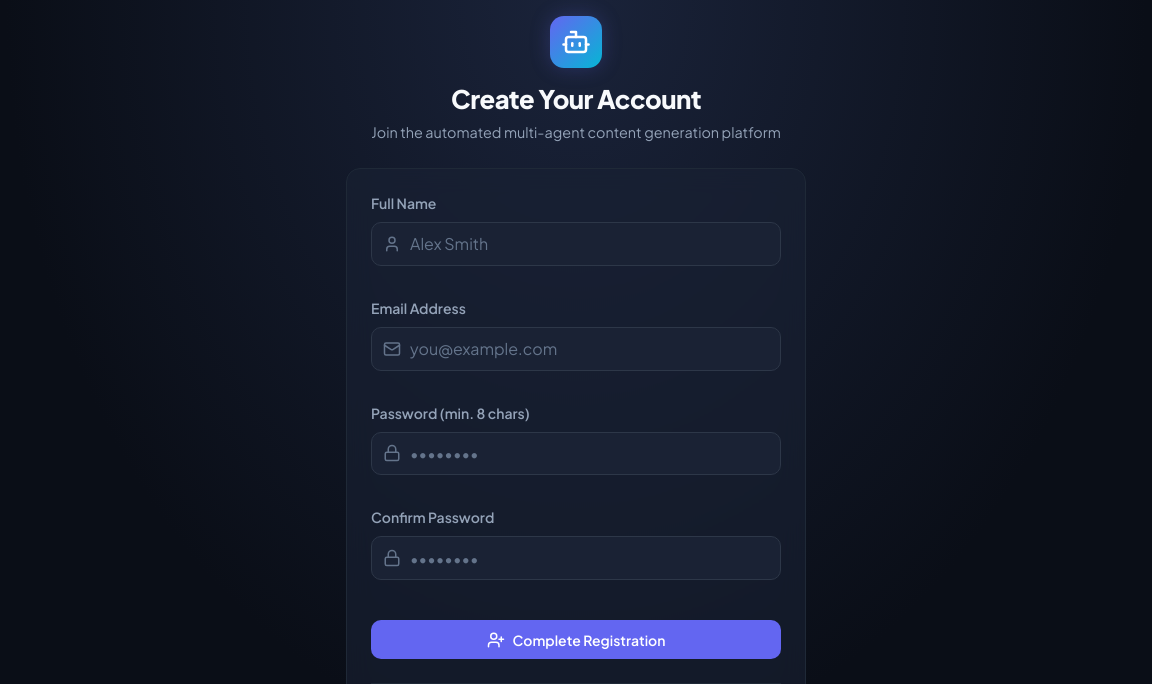
Test: Authentication Flows › renders Register page and checks password mismatch validation
Type "alex@example.com" into the field labelled "Email Address" at [576, 349], box [371,327,781,371]
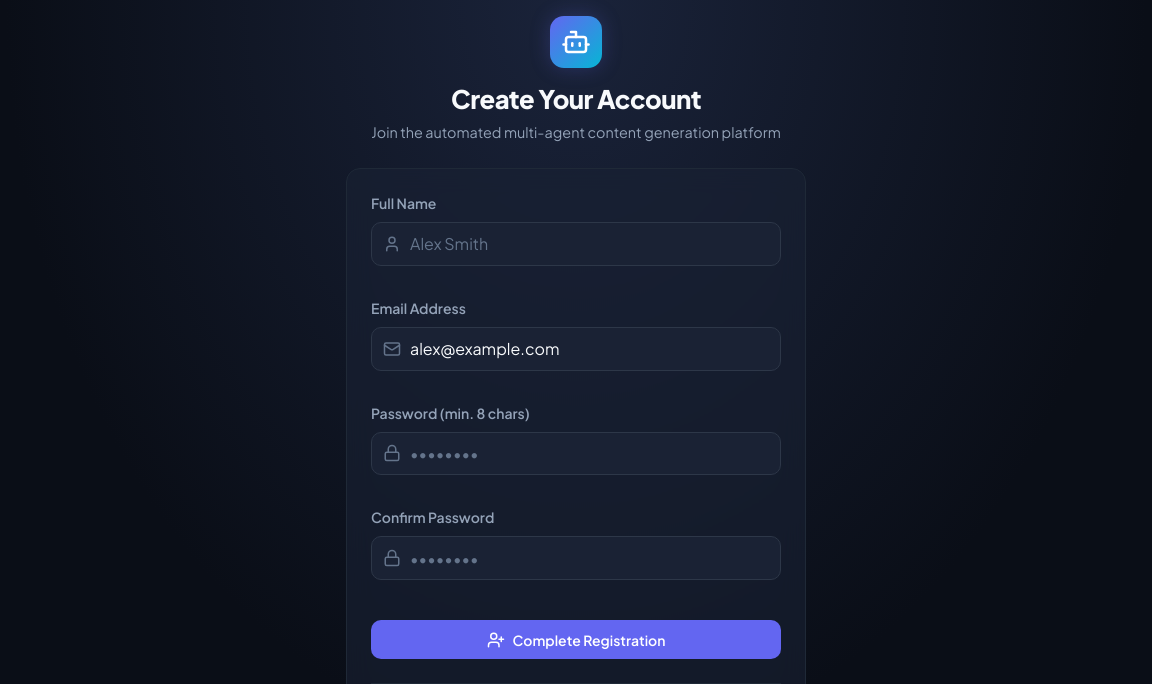
Type "password123" into the password field labelled "Password (min. 8 chars)" at [576, 454], box [371,432,781,475]
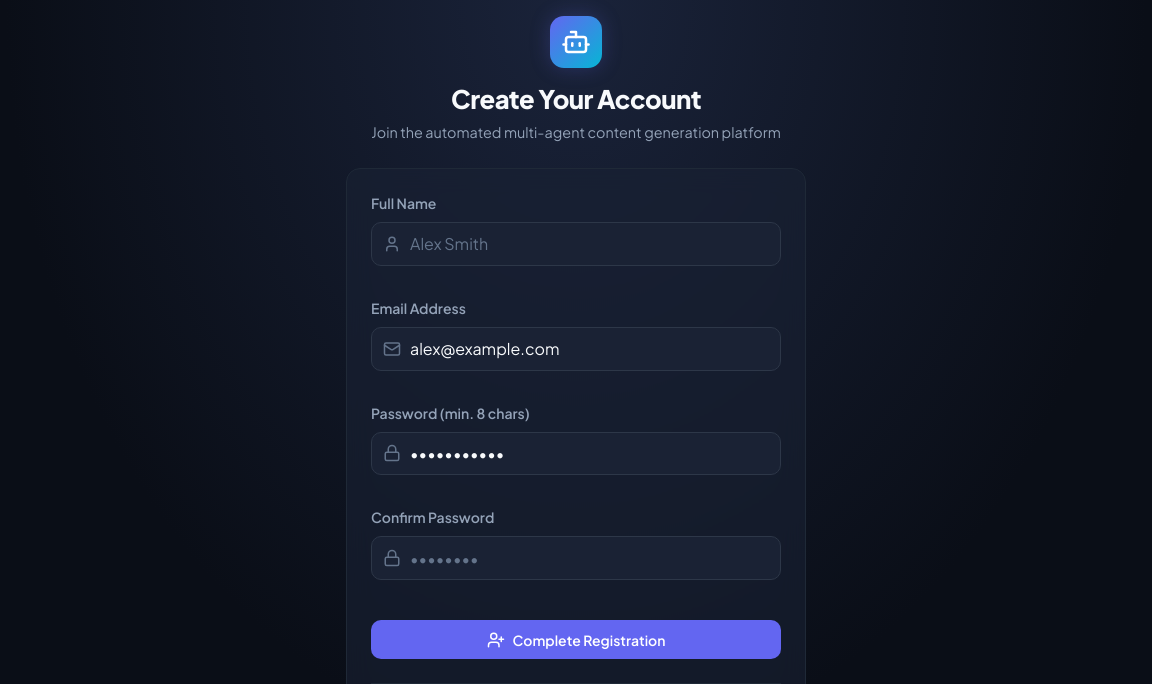
Type "mismatchpass" into the password field labelled "Confirm Password" at [576, 558], box [371,536,781,580]
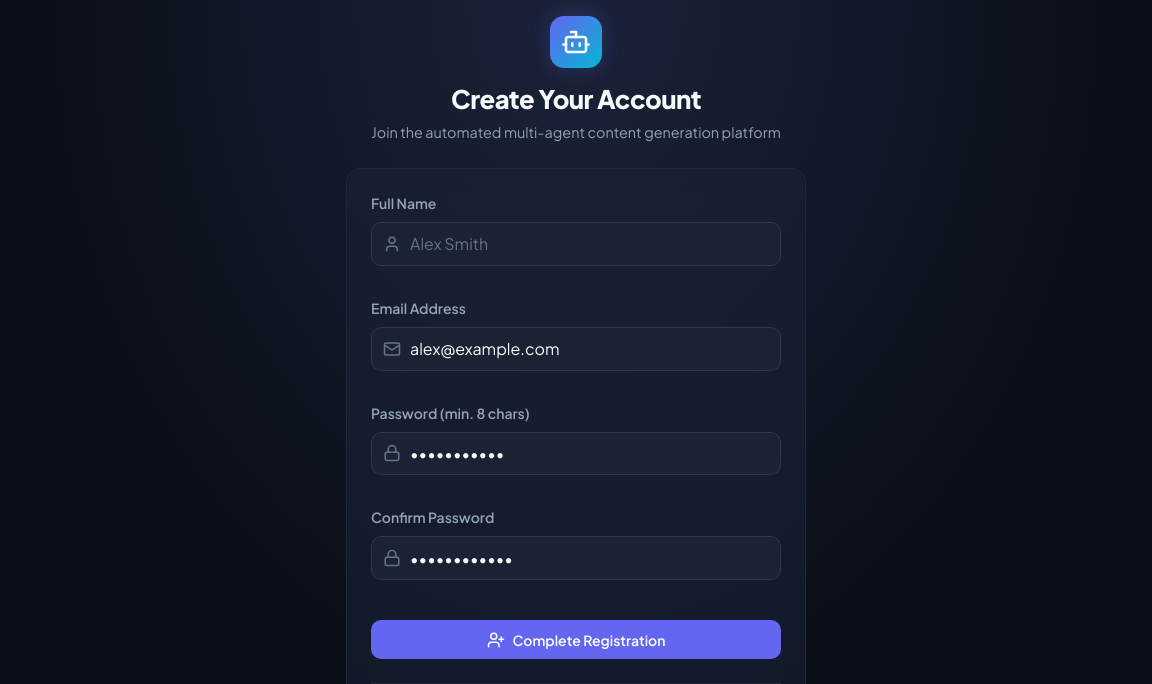
Click the button "Complete Registration" at [576, 640], box [371,620,781,659]
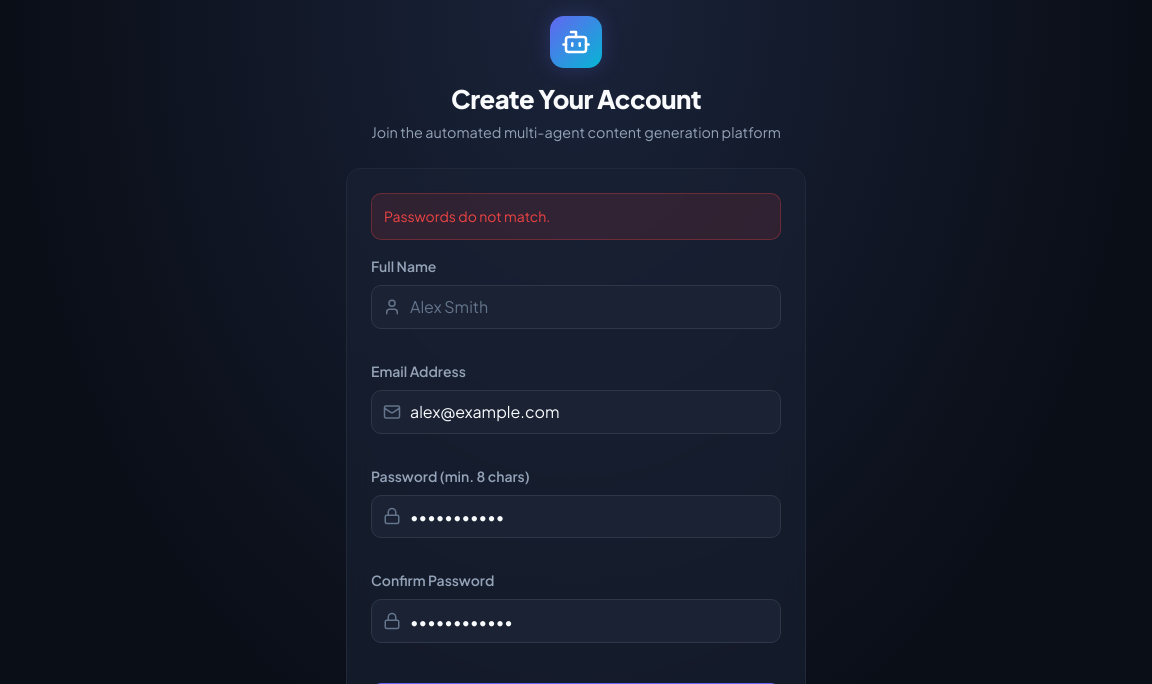
Expected: the text "Passwords do not match." is shown, [371,193,781,240]
